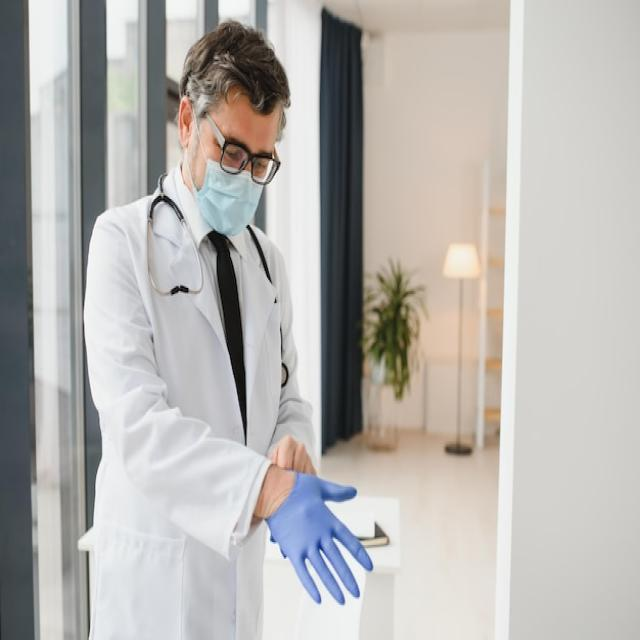Gloves: (254, 453, 378, 620)
Mask: (167, 100, 285, 259)
